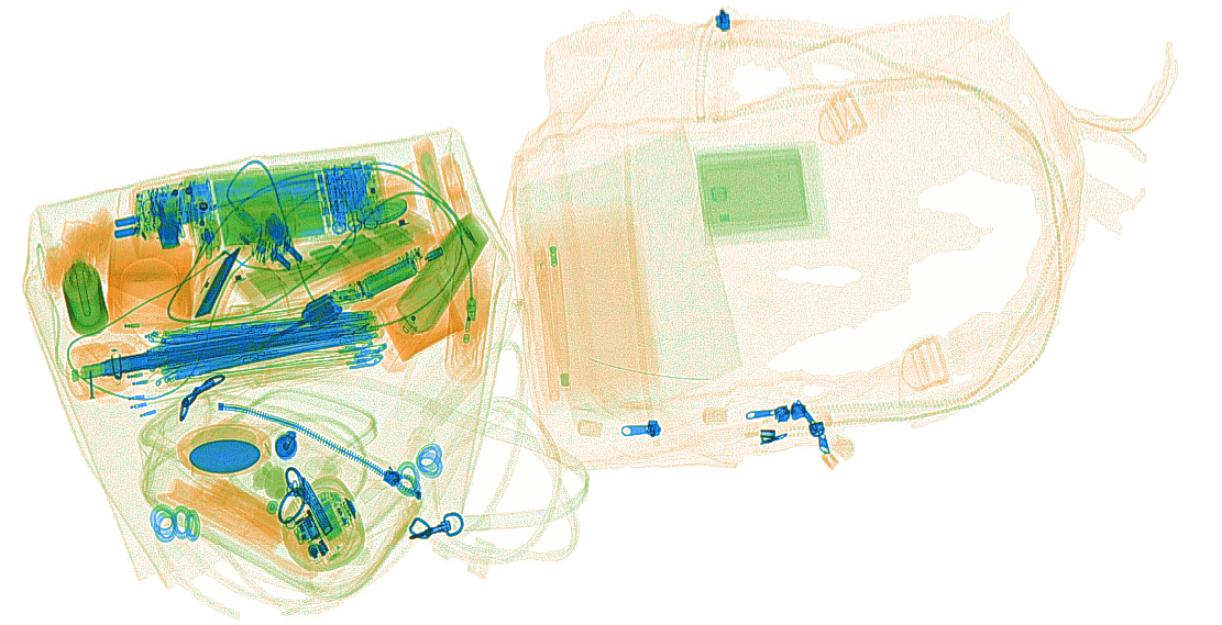battery: (356, 255, 416, 298)
plasticBottleWithaNozzle: (445, 258, 493, 382)
